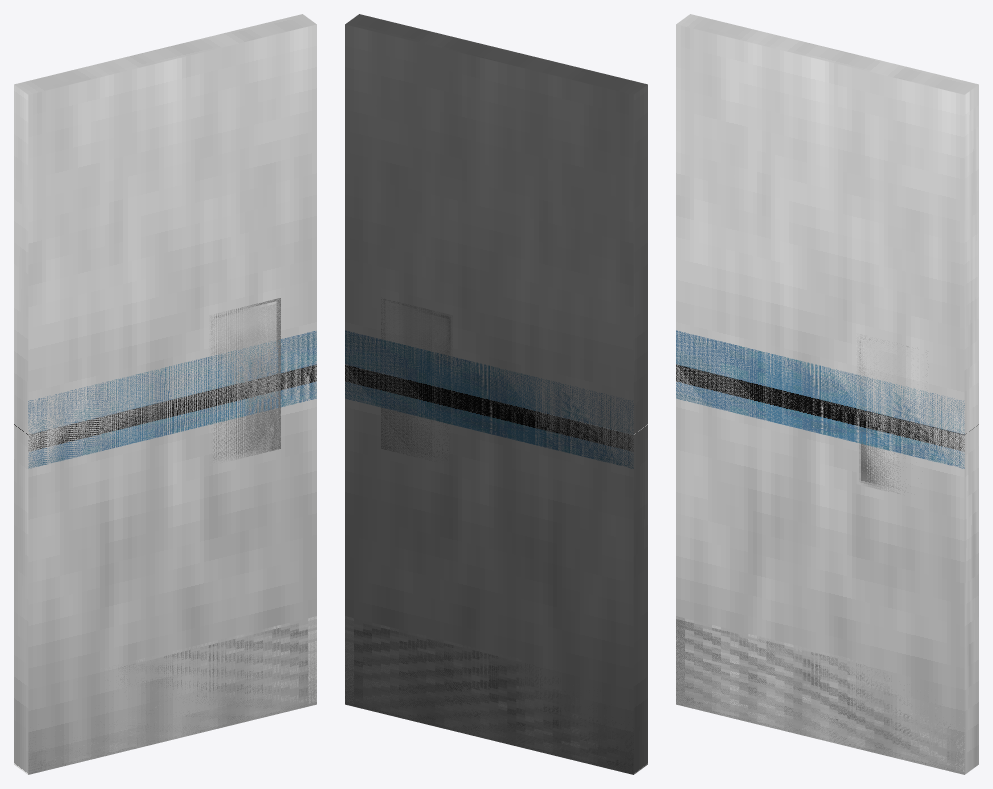
File: Pgas_plant_sw_do1Z.obj
3 views of the same model, side by side, from view 1: azimuth 30°, elevation 25°; view 2: azimuth 150°, elevation 25°; view 3: azimuth 330°, elevation 25° (orthographic).
Size of the model in its own units: 700 by 1576 by 60.
Materials: 4 (4 with a texture image).
